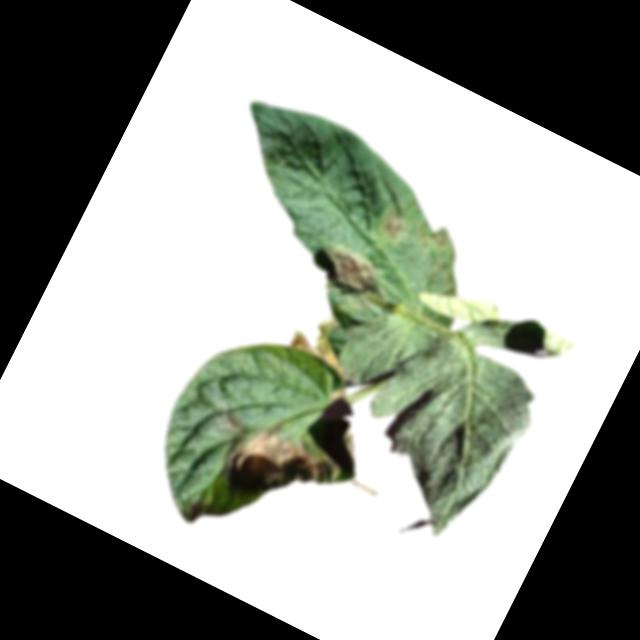Late_blight: (217, 410, 343, 519), (283, 303, 373, 383), (313, 239, 386, 304), (374, 209, 409, 244)
